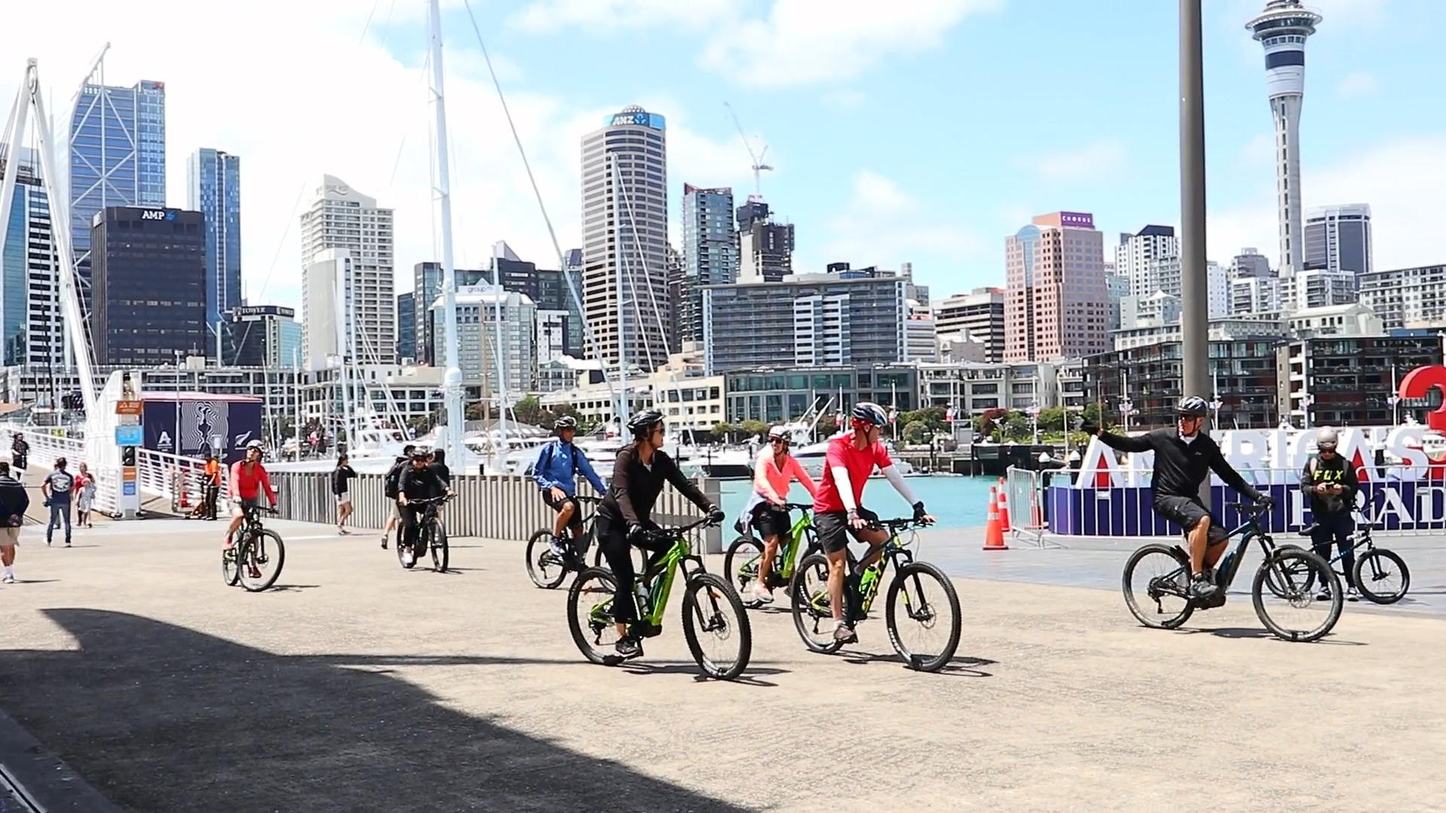bicyclist: (1076, 395, 1344, 643), (566, 409, 752, 679), (793, 402, 962, 671), (725, 425, 830, 610), (525, 415, 617, 592), (222, 438, 285, 592), (396, 446, 459, 573)
helmet: (626, 409, 665, 452), (850, 403, 888, 446), (1175, 395, 1208, 437), (767, 425, 793, 456), (1316, 425, 1338, 460), (555, 415, 577, 444), (246, 439, 266, 463)
